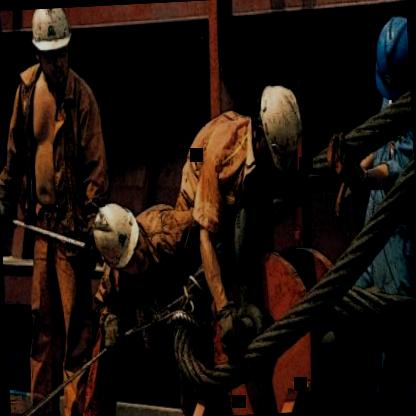helmet: (249, 82, 304, 174), (88, 201, 152, 276), (27, 7, 74, 87), (369, 13, 411, 102)
